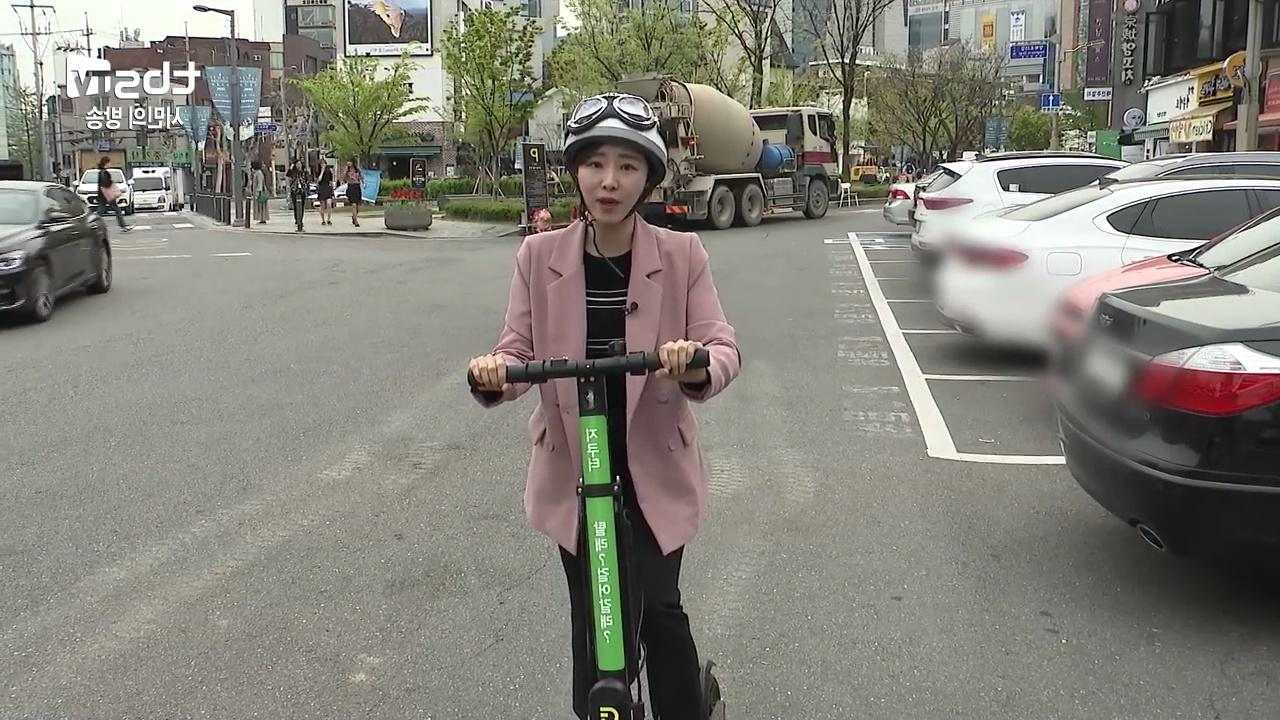helmet: (463, 94, 743, 720)
